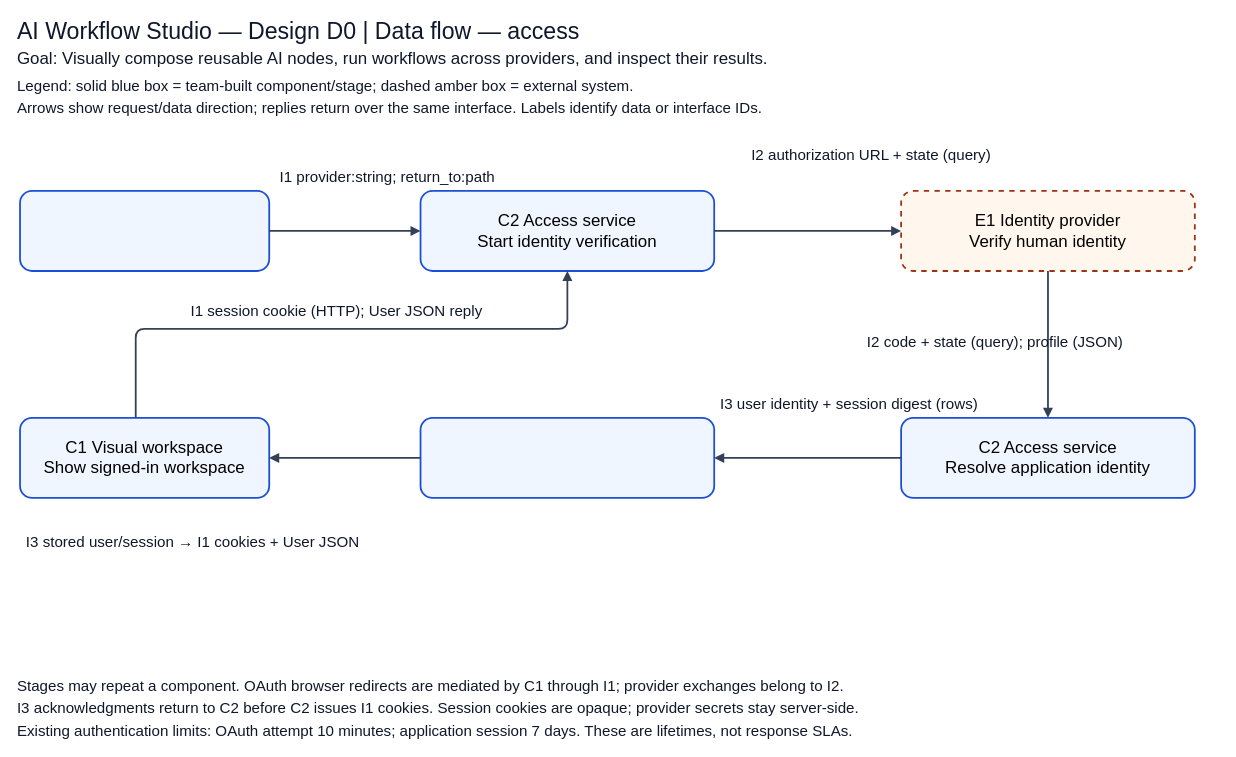
Some shapes in this 1236 by 757 pixel diagram are drawn without their labels. Here are the shapes that lost their labels. From the top down, the centre of each, then its label:
At point 144,230: "C1 Visual workspace Choose sign-in provider".
At point 567,457: "C7 Application data store Persist identity / session".
